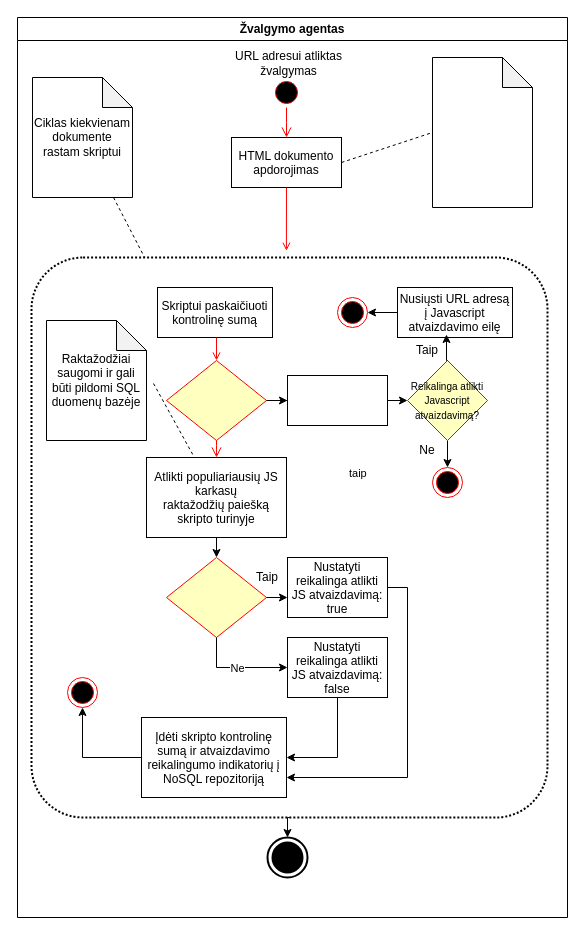
Some shapes in this 585 by 935 pixel diagram are drawn without their labels. The shapes that lost their labels are listed below. From the top down, each one's box as (x1, y1, x2, y2) in pixels, then its label:
(432, 56, 532, 208): Išgaunami visų puslapyje naudojamų Javascript skriptų URL adresai
(166, 360, 266, 440): Egzistuoja atitinkamos kontrolinės sumos įrašas?
(286, 374, 388, 426): Paimti įrašo atvaizdavimo statuso reikšmę
(30, 256, 548, 818): Ciklas
(166, 556, 266, 638): Atitikmuo rastas?
(266, 836, 308, 878): Turimas indikatorius, ar reikia atlikti JS žvalgymą
